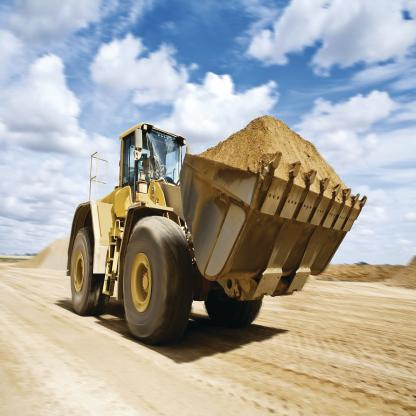bull_dozer/loader/grader: (58, 82, 358, 352)
